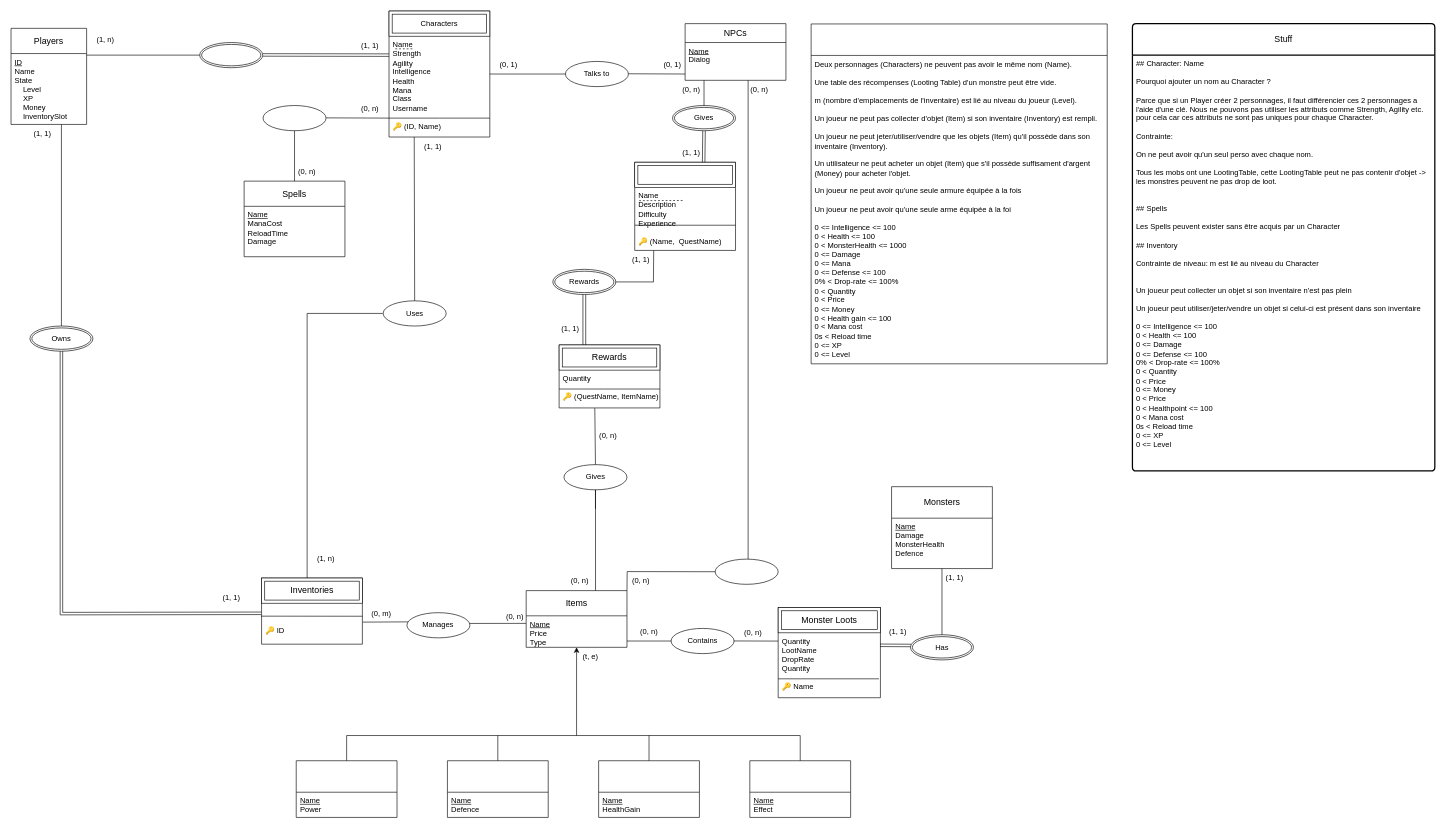
This 1446x828 diagram has some shape labels left out. The box of each missing label's shape, as (x1, y1, x2, y2) in pixels:
Armors: (447, 760, 548, 817)
Artefacts: (749, 760, 851, 817)
Contraintes: (810, 23, 1107, 364)
Creates: (199, 42, 263, 68)
Fights with: (262, 105, 326, 131)
Potions: (598, 760, 699, 817)
Quests: (634, 162, 736, 187)
Sells: (715, 558, 778, 584)
Weapons: (296, 760, 397, 817)
